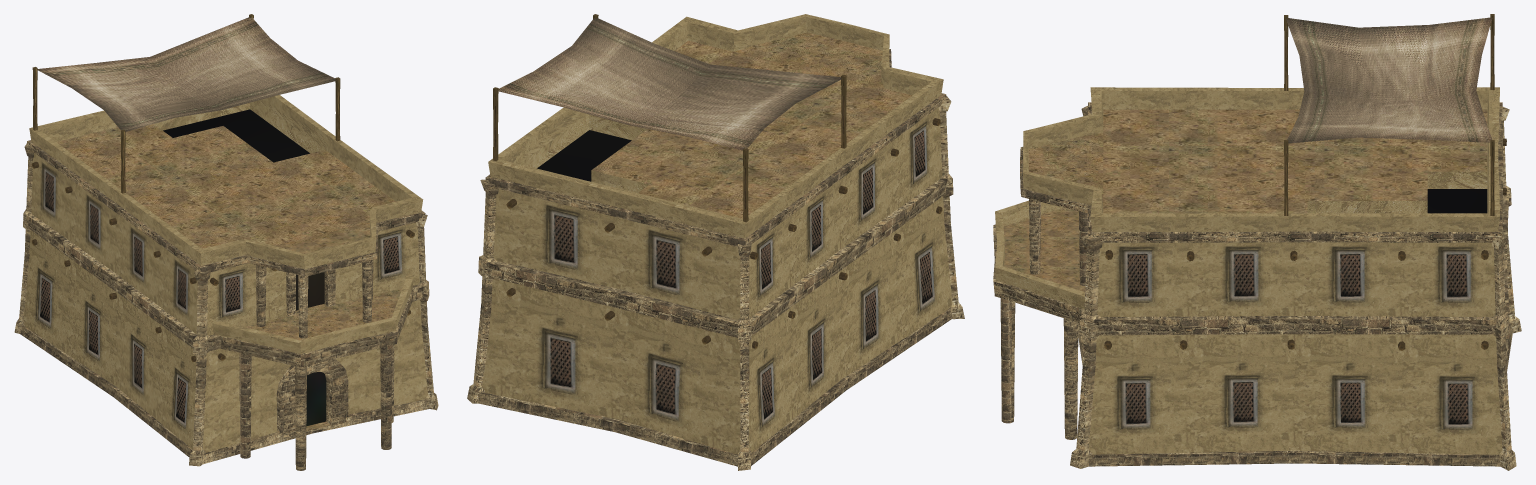
The model's file is desert_house.glb.
3 renders of one model, left to right at view 1: azimuth 30°, elevation 25°; view 2: azimuth 150°, elevation 25°; view 3: azimuth 270°, elevation 25°, orthographic. The views are drawn at different scales.
Parts seen in each view (by area): view 1: House1_0, Plane_5, Column_3, door_1_1, Wood_4, door2_2; view 2: House1_0, Plane_5, Wood_4; view 3: House1_0, Plane_5, Column_3, Wood_4.
Boxes of the visible parts, box(x1,y1,x2,y2) form: House1_0: box(14, 95, 438, 466); Plane_5: box(37, 17, 335, 131); Column_3: box(239, 260, 394, 470); door_1_1: box(276, 359, 348, 437); Wood_4: box(32, 14, 414, 361); door2_2: box(286, 269, 335, 316); House1_0: box(467, 14, 964, 470); Plane_5: box(498, 18, 842, 150); Wood_4: box(493, 14, 942, 348); House1_0: box(993, 87, 1521, 470); Plane_5: box(1286, 17, 1492, 143); Column_3: box(1000, 199, 1087, 439); Wood_4: box(1084, 14, 1506, 350).
Size of the model in its own units: 13.86 by 14.07 by 21.08.
Materials: 6 (6 with a texture image).
